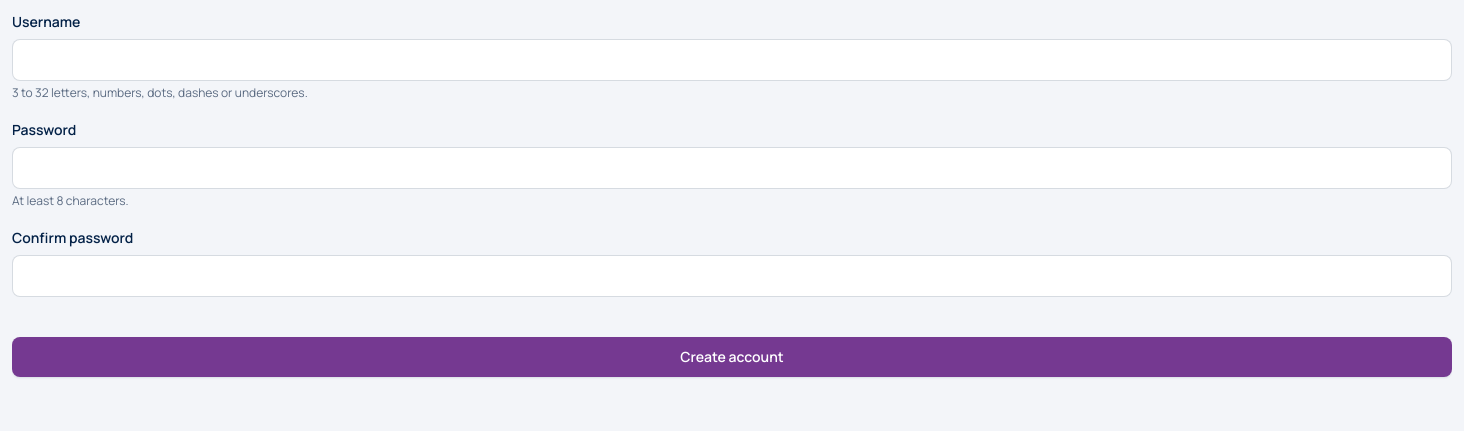
Test: RegisterForm › explains a taken username
The width and height of the screenshot is (1464, 431).
Type "new.user" into the field labelled "Username" at (732, 60), box [12,39,1452,81]
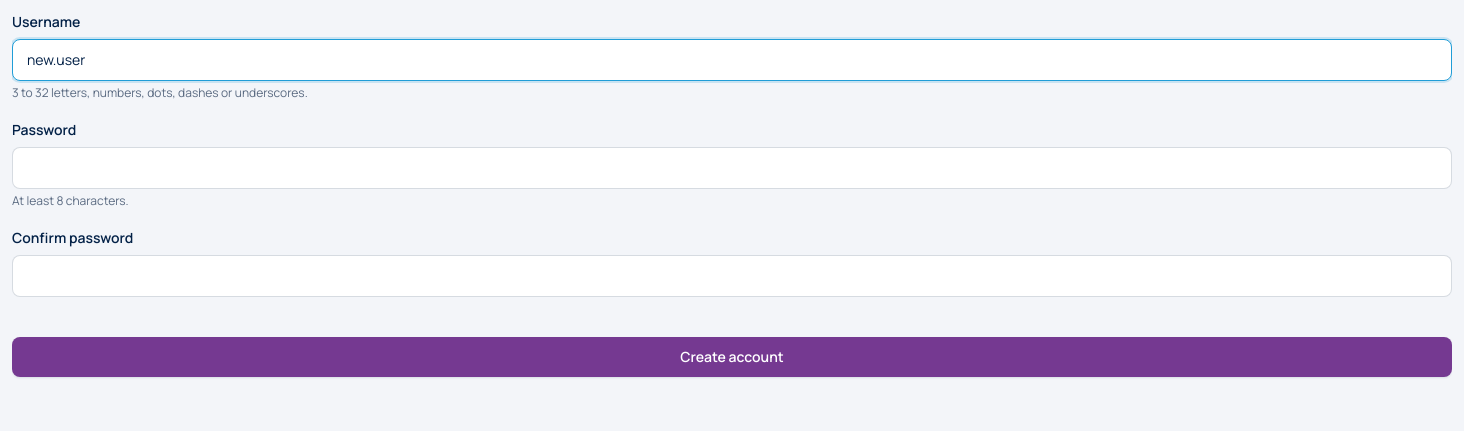
Type "long-password" into the password field labelled "Password" at (732, 168), box [12,147,1452,189]
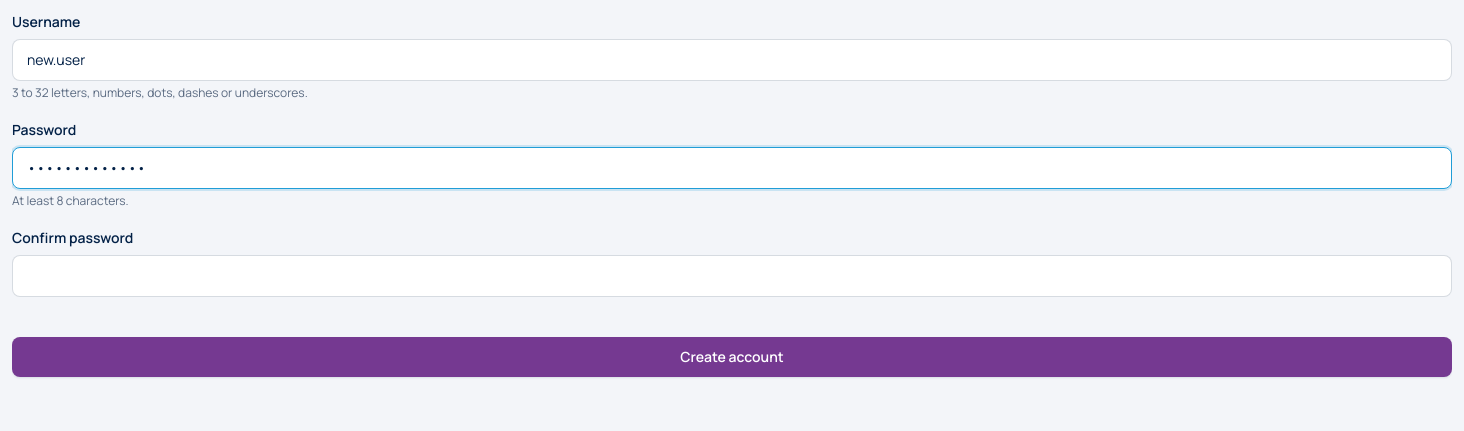
Type "long-password" into the password field labelled "Confirm password" at (732, 276), box [12,255,1452,297]
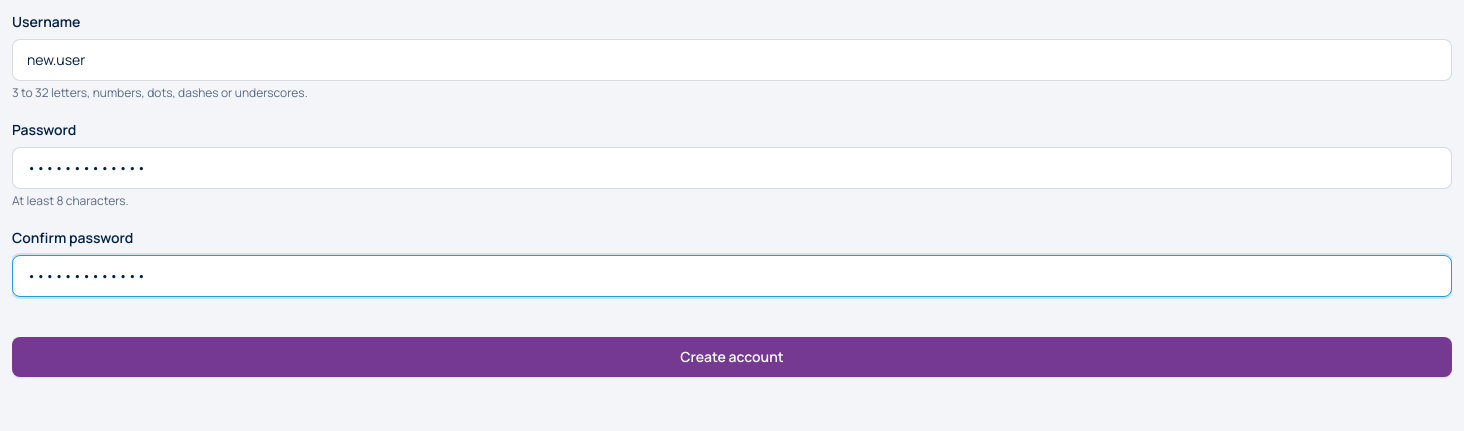
Click the button "Create account" at (732, 357), box [12,337,1452,377]
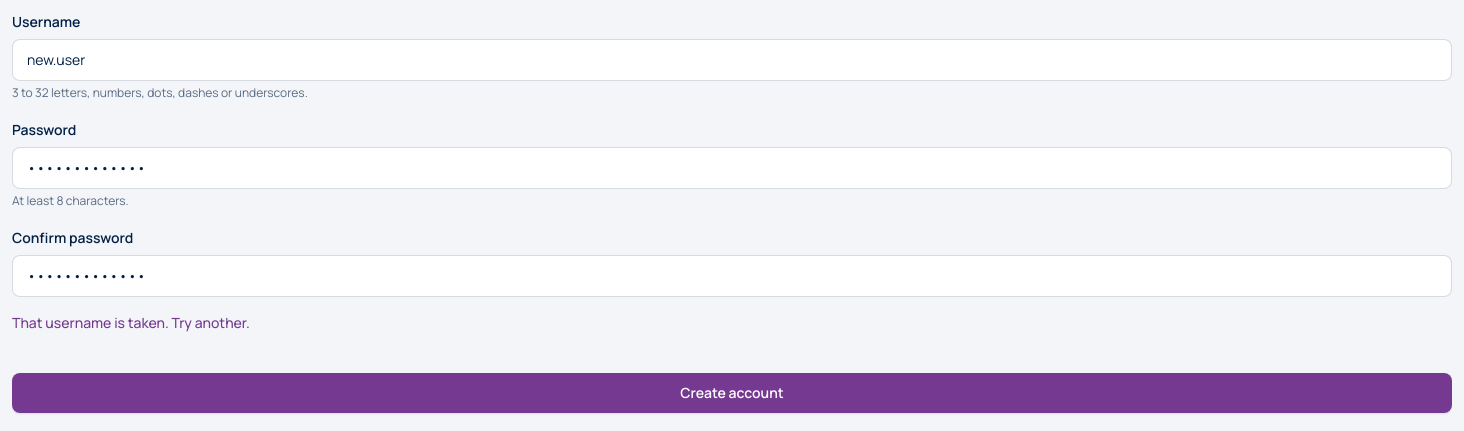
Expected: the button "Create account" is enabled, [12,373,1452,413]
Now the message shows "username is taken", box [12,313,250,332]
